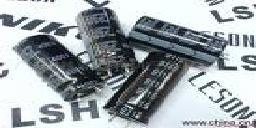Electrolytic Capacitor: (15, 30, 96, 105), (126, 14, 234, 66), (75, 6, 141, 76)
